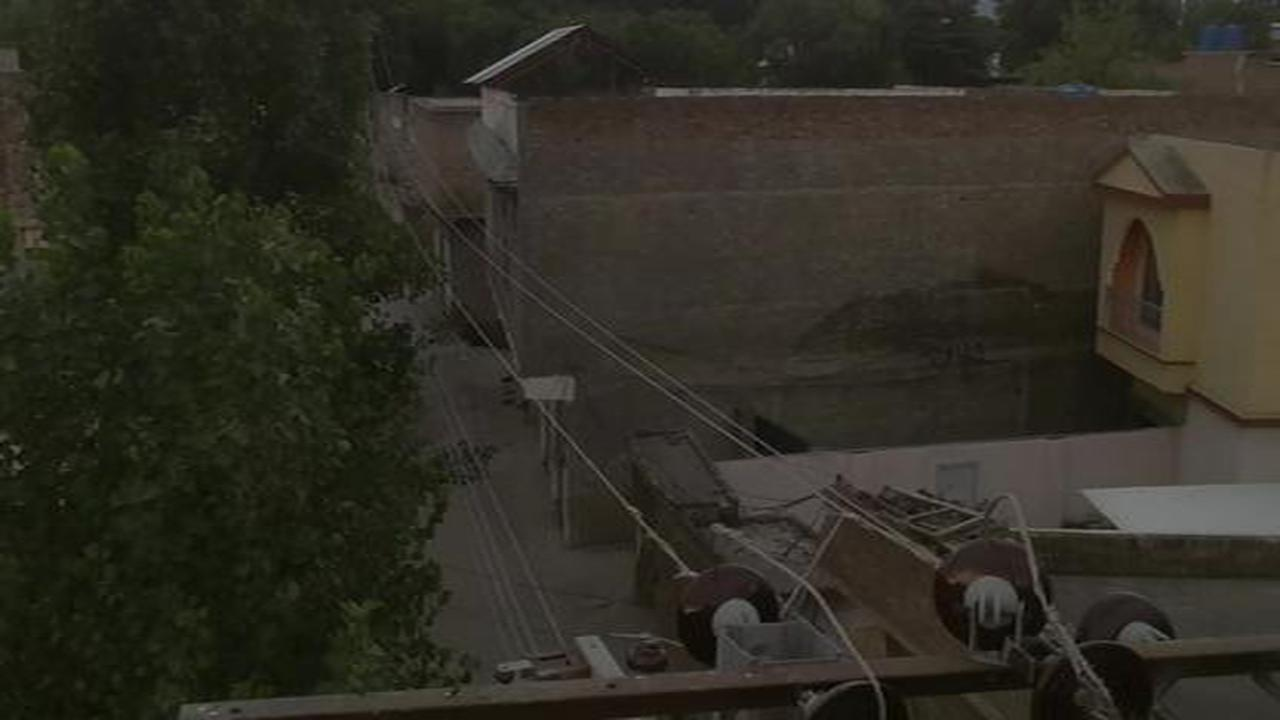insulator_disc: (930, 538, 1053, 646), (674, 568, 785, 657), (1035, 659, 1156, 712), (1084, 597, 1182, 645)
